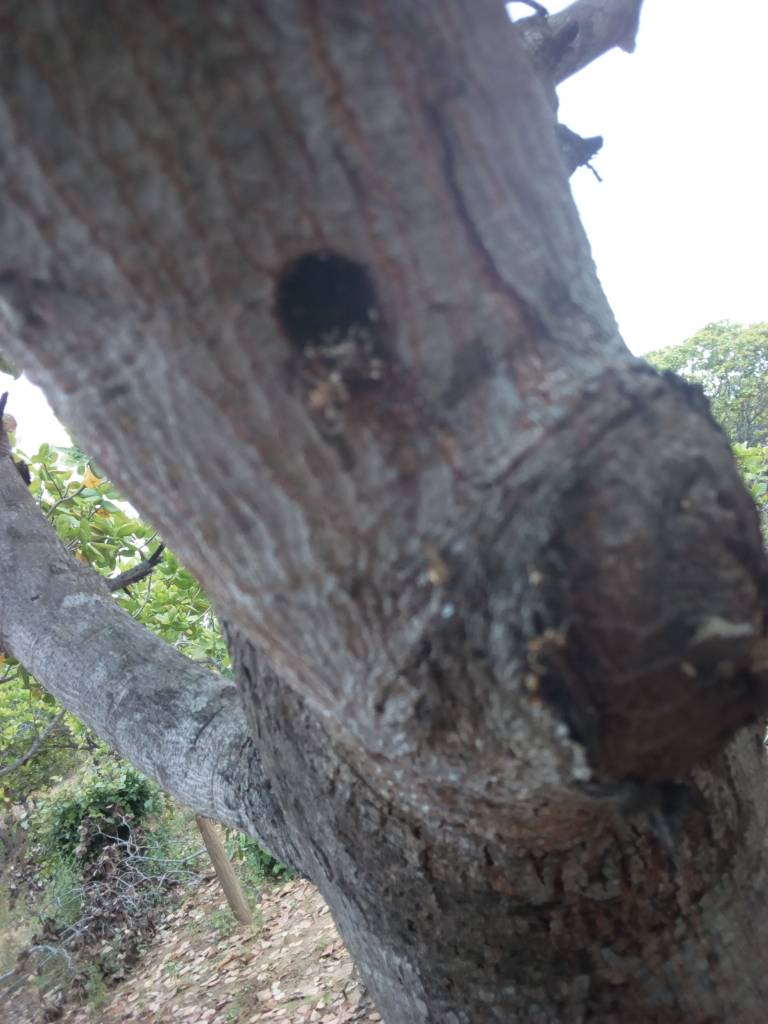Apate terebrans: (247, 224, 416, 391)
